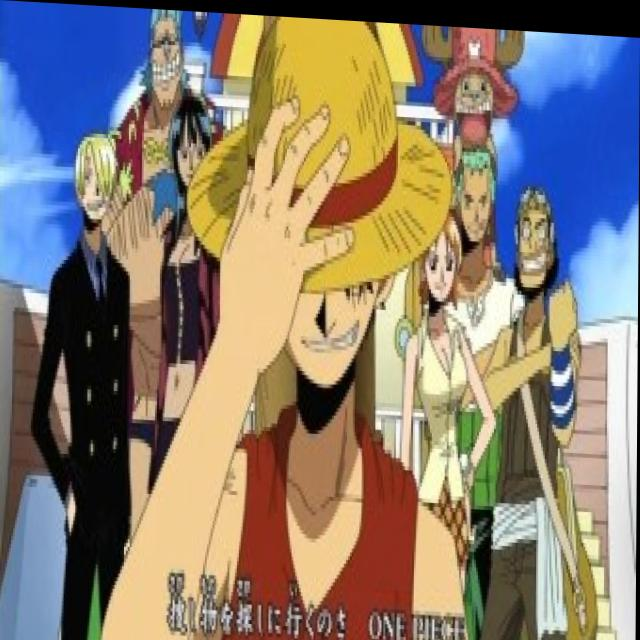Chyopa: (419, 20, 527, 133)
Franky: (141, 7, 187, 116)
Luffy: (193, 9, 423, 395)
Nami: (419, 203, 468, 308)
NicoRobin: (169, 91, 212, 196)
Sangdi: (70, 118, 120, 237)
Usopp: (515, 177, 558, 293)
Zoro: (448, 136, 501, 239)
